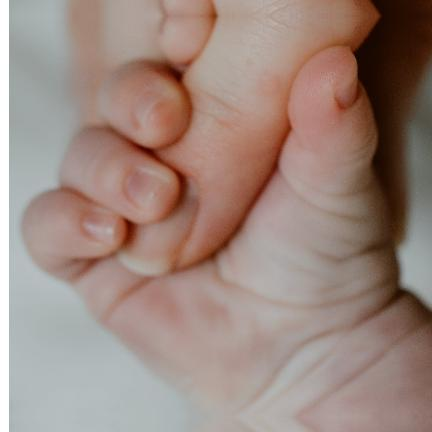Nail: (123, 164, 168, 215), (132, 88, 175, 132), (333, 58, 364, 109), (79, 211, 120, 249)
